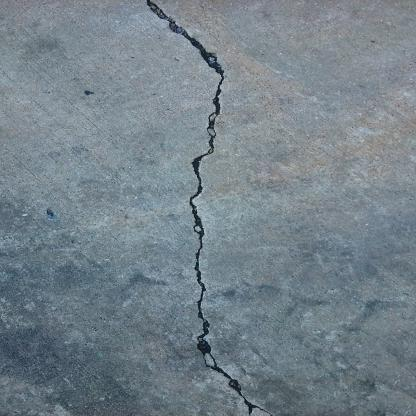Cracks: (139, 0, 281, 415)
